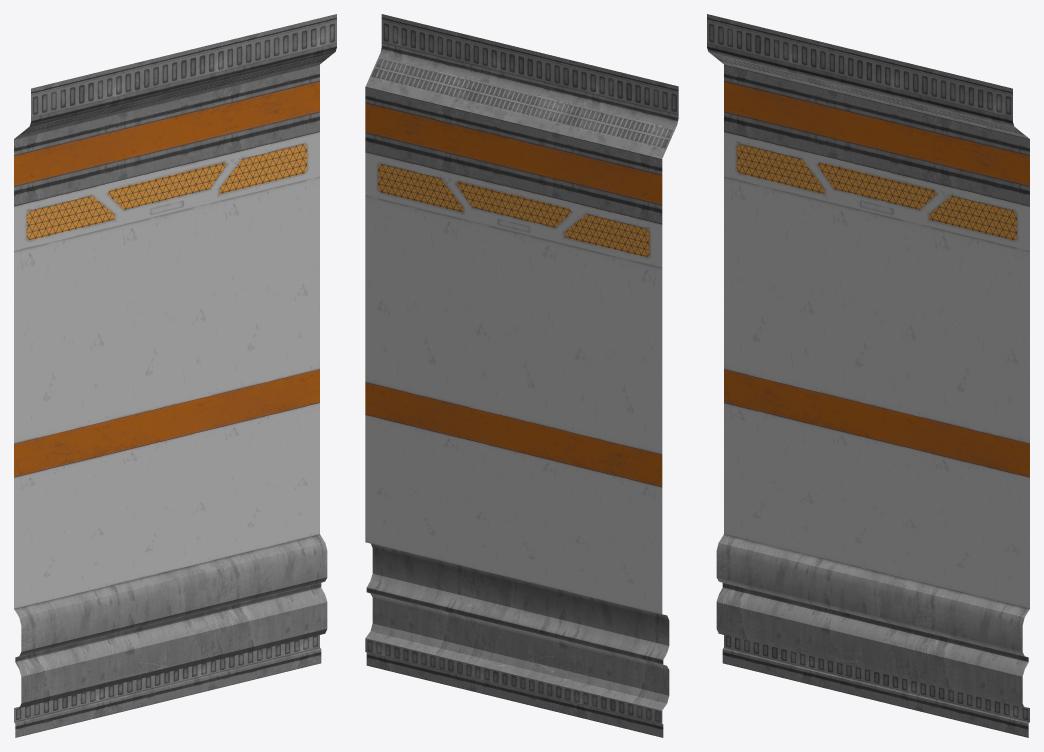
Rendered from Wall.fbx.
The picture shows the model from 3 angles, left to right: view 1: azimuth 30°, elevation 25°; view 2: azimuth 150°, elevation 25°; view 3: azimuth 330°, elevation 25°; orthographic projection. The views are drawn at different scales.
Parts seen in each view (by area): view 1: Wall; view 2: Wall; view 3: Wall.
Part boxes in pixels (x1,y1,x2,y2): Wall: (14,14,336,737); Wall: (365,14,678,737); Wall: (707,14,1029,737).
Size of the model in its own units: 4.25 by 8.76 by 0.4041.
